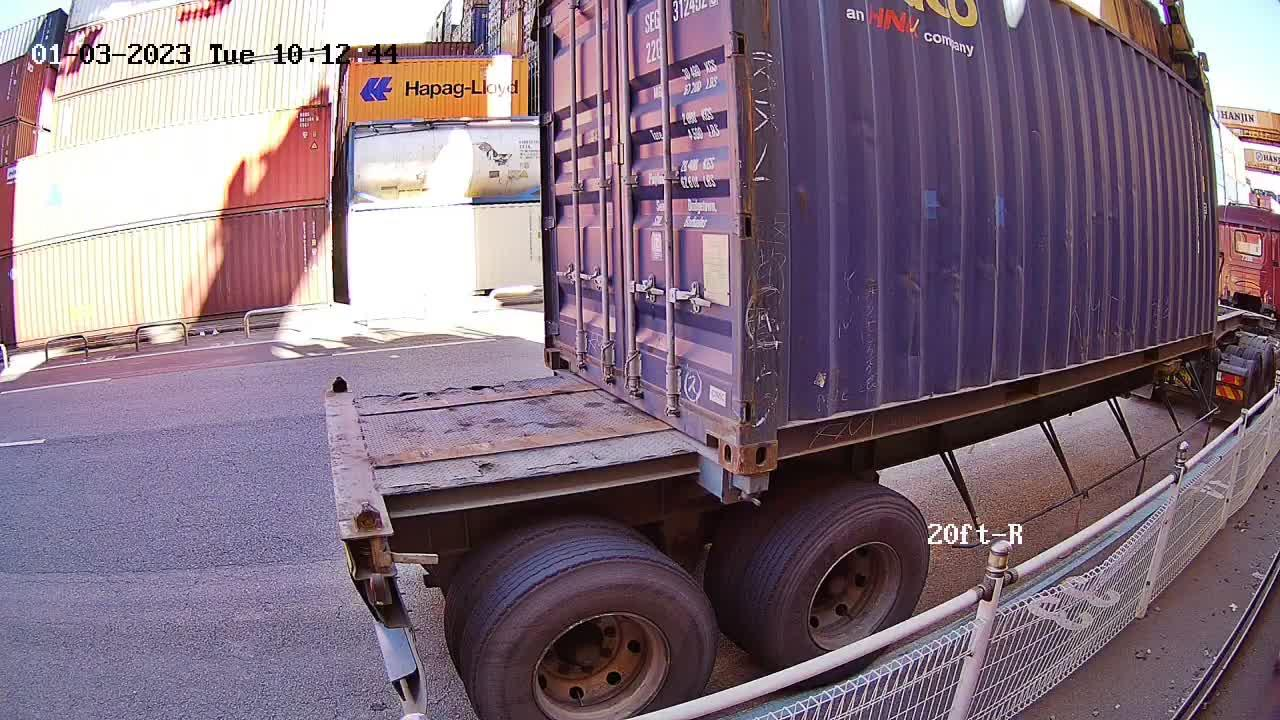Cone: (732, 475, 770, 510)
Hole_L: (742, 397, 814, 476), (544, 324, 579, 382)
Hole_R: (697, 393, 742, 478)
Tire: (474, 556, 718, 719), (784, 497, 931, 684)
